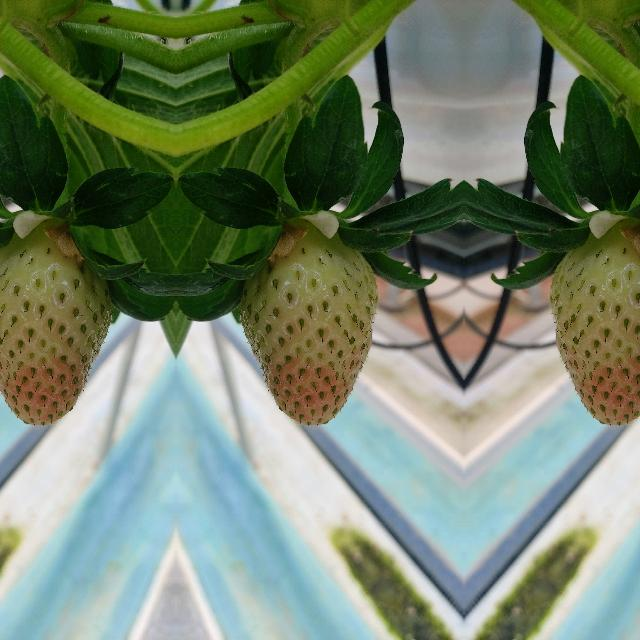Health_50: (236, 230, 376, 426), (0, 230, 114, 426), (550, 230, 640, 426)
